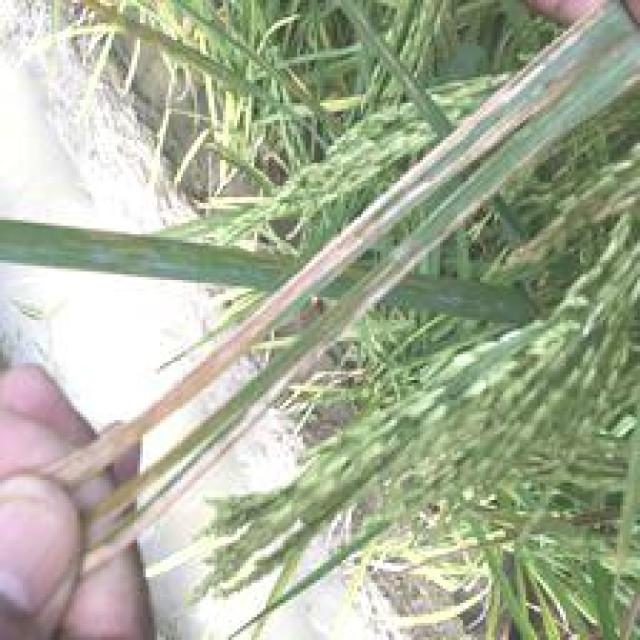Bacterial_Leaf_Blight: (60, 220, 354, 443)
